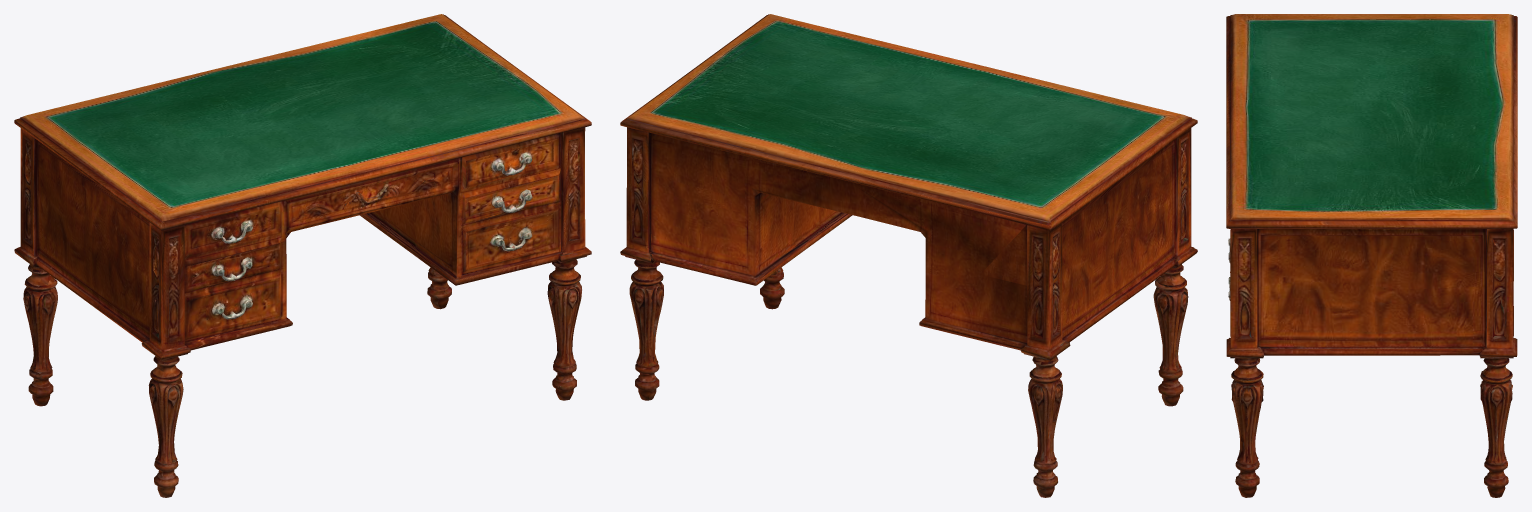
File: writing_desk.glb
3 renders of one model, left to right at view 1: azimuth 30°, elevation 25°; view 2: azimuth 150°, elevation 25°; view 3: azimuth 270°, elevation 25°, orthographic.
Visible parts, largest first — view 1: mesh; view 2: mesh; view 3: mesh.
Part boxes in pixels (x1,y1,x2,y2): mesh: (14, 14, 591, 497); mesh: (620, 14, 1197, 497); mesh: (1226, 14, 1517, 497).
Size of the model in its own units: 1.58 by 1 by 0.9294.
1 material, 1 textured.
